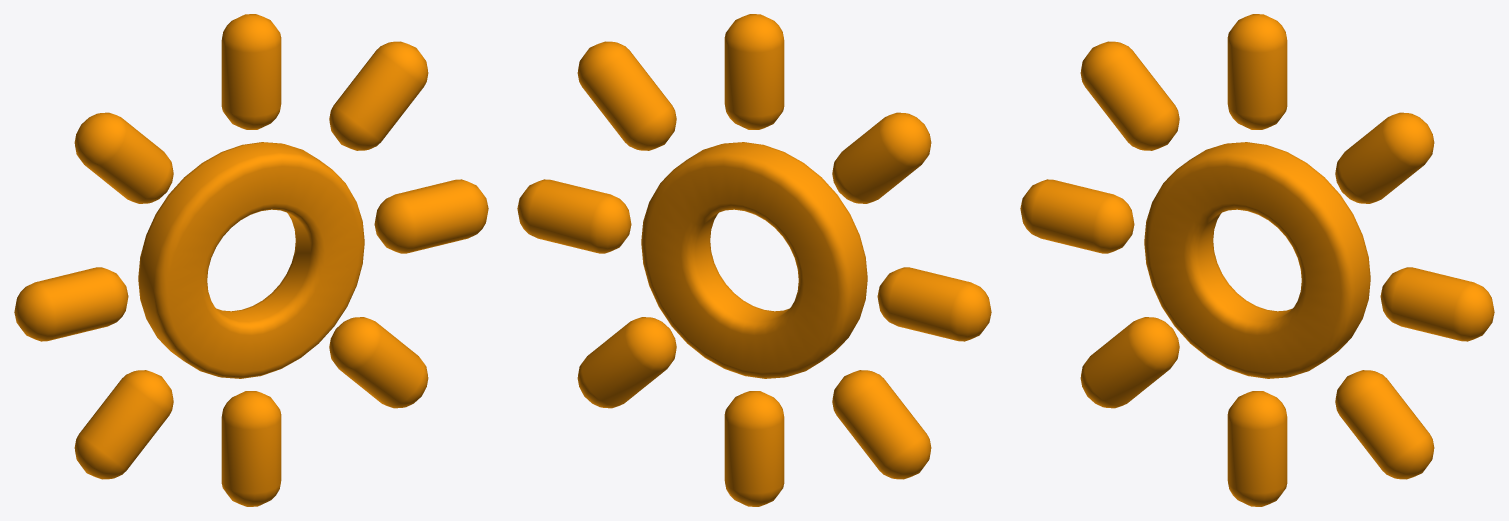
Rendered from bright_button.glb.
3 views of the same model, side by side, from view 1: azimuth 30°, elevation 25°; view 2: azimuth 150°, elevation 25°; view 3: azimuth 330°, elevation 25° (orthographic).
Visible parts, largest first — view 1: Circle.2633; view 2: Circle.2633; view 3: Circle.2633.
Boxes of the visible parts, <box> form: Circle.2633: <box>14,14,488,506</box>; Circle.2633: <box>517,14,991,506</box>; Circle.2633: <box>1020,14,1494,506</box>.
Bounding box in the file's own units: 2.24 × 2.24 × 0.2505.
1 material, 1 textured.
